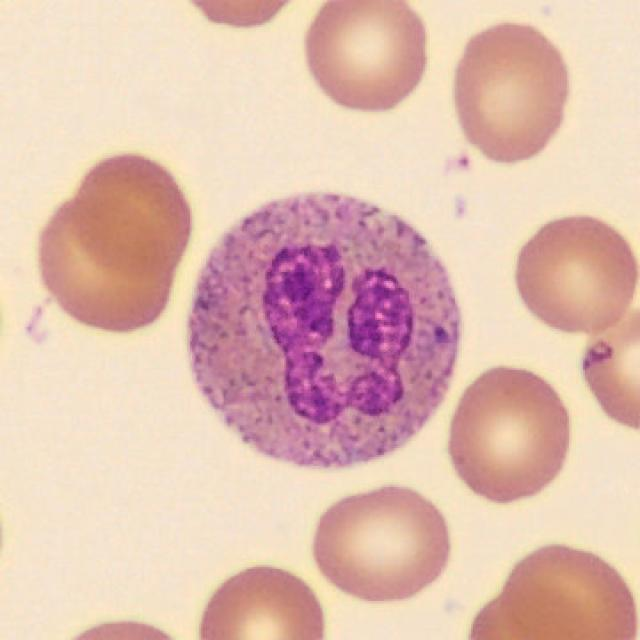Neutrofilo segmentado: (190, 194, 457, 471)
